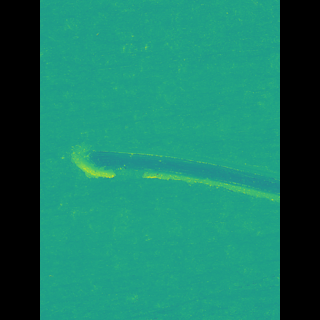Loch: (89, 139, 250, 207)
